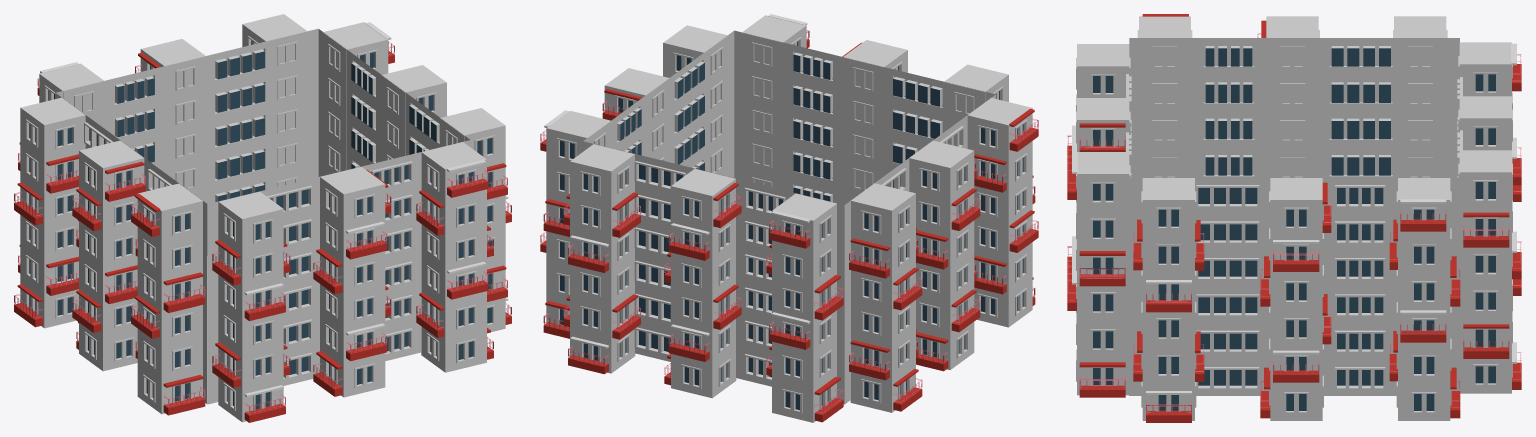
File: hostel.fbx
3 renders of one model, left to right at view 1: azimuth 30°, elevation 25°; view 2: azimuth 150°, elevation 25°; view 3: azimuth 270°, elevation 25°, orthographic. The views are drawn at different scales.
Visible parts, largest first — view 1: Cube.033, Cube.018, Cube.027, Cube.016, Cube.001, Cube.026, Cube.036, Cube.035, Cube.034, Cube.021, Cube.020, Cube.032 (+3 smaller); view 2: Cube.033, Cube.016, Cube.027, Cube.018, Cube.001, Cube.015, Cube.036, Cube.029, Cube.014, Cube.030, Cube.012, Cube.013 (+2 smaller); view 3: Cube.033, Cube.001, Cube.027, Cube.016, Cube.018, Cube.002, Cube.025, Cube.009, Cube.015, Cube.026, Cube.008, Cube.004 (+5 smaller).
Boxes of the visible parts, x1,y1,x2,y2 form: Cube.033: (55,28,470,404); Cube.018: (218,142,486,422); Cube.027: (20,97,202,414); Cube.016: (39,14,307,202); Cube.001: (322,22,505,331); Cube.026: (244,159,488,422); Cube.036: (14,182,160,338); Cube.035: (163,272,205,415); Cube.034: (105,161,145,304); Cube.021: (313,248,342,396); Cube.020: (212,240,240,387); Cube.032: (46,154,78,295); Cube.033: (583,30,995,404); Cube.016: (570,144,836,422); Cube.027: (850,98,1032,412); Cube.018: (741,15,1008,204); Cube.001: (546,25,728,327); Cube.015: (568,210,810,374); Cube.036: (893,109,1038,411); Cube.029: (849,238,889,380); Cube.014: (814,275,843,422); Cube.030: (916,230,948,371); Cube.012: (612,192,640,339); Cube.013: (713,183,741,329); Cube.033: (1126,38,1462,395); Cube.001: (1141,178,1451,420); Cube.027: (1137,16,1447,177); Cube.016: (1458,42,1512,393); Cube.018: (1076,44,1130,395); Cube.002: (1146,199,1446,422); Cube.025: (1079,251,1125,397); Cube.009: (1463,212,1509,358); Cube.015: (1511,43,1521,389); Cube.026: (1067,125,1077,310); Cube.008: (1450,256,1460,418); Cube.004: (1260,256,1270,418).
Size of the model in its own units: 2379 by 1280 by 2382.
